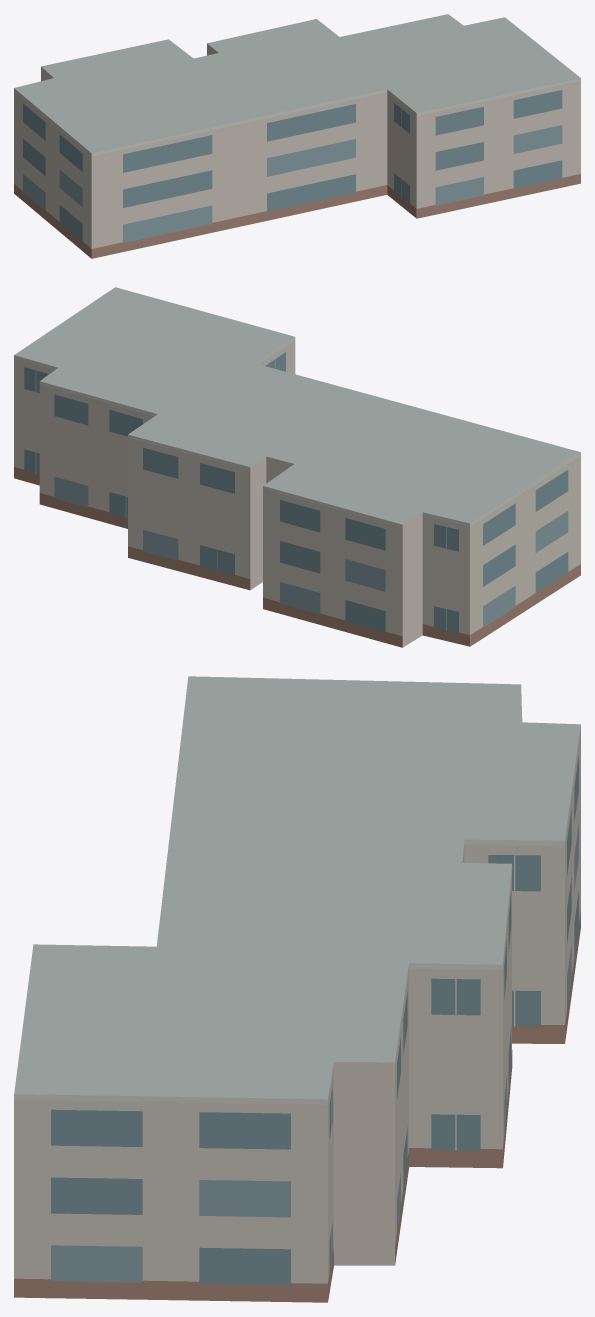
File: survey-upis-32886323.glb
3 renders of one model, top to bottom at view 1: azimuth 30°, elevation 25°; view 2: azimuth 150°, elevation 25°; view 3: azimuth 270°, elevation 25°, orthographic. The views are drawn at different scales.
Visible parts, largest first — view 1: survey-upis-32886323.tmp; view 2: survey-upis-32886323.tmp; view 3: survey-upis-32886323.tmp.
Part boxes in pixels (box(x1,y1,x2,y2)): survey-upis-32886323.tmp: box(14, 14, 580, 258); survey-upis-32886323.tmp: box(14, 287, 580, 647); survey-upis-32886323.tmp: box(14, 676, 580, 1302).
Bounding box in the file's own units: 40.8 × 9.15 × 23.11.
